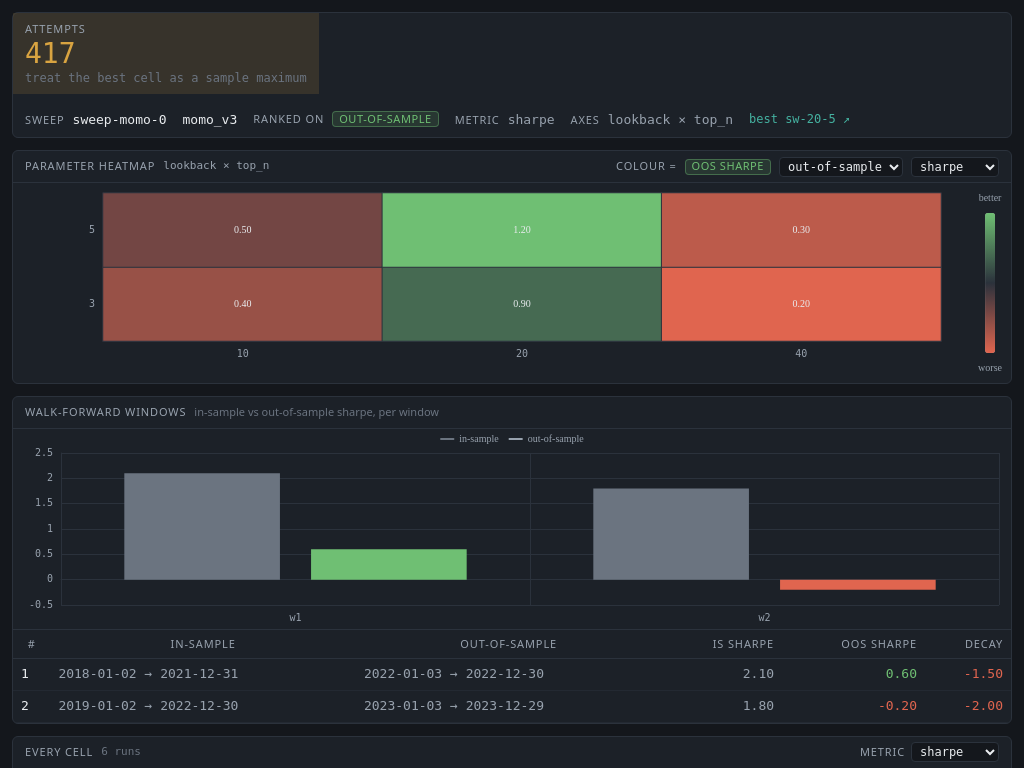
Test case: Sweep › labels an in-sample surface unmistakably when the source is switched
The image size is (1024, 768).
Select "in-sample" in the dropdown named "colour source" at (841, 166), box [779,156,903,176]
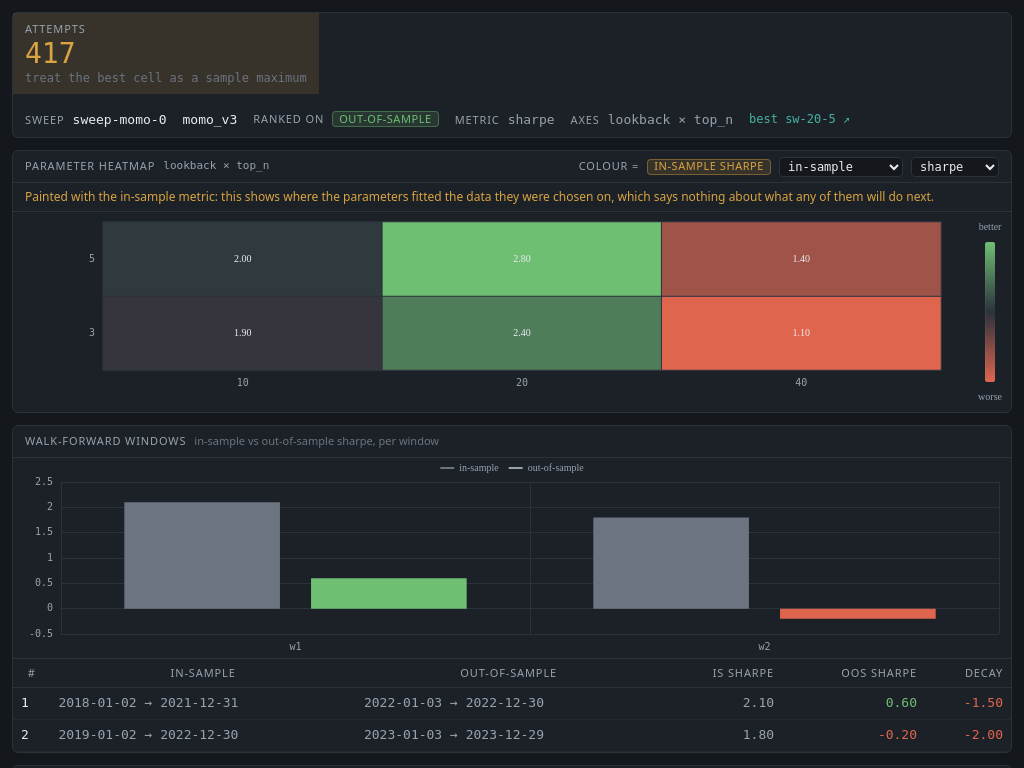
Check: the text "IN-SAMPLE sharpe" is shown, box [647,158,771,174]
Check: the text "fitted the data they were chosen on" is shown, box [25,188,934,205]
